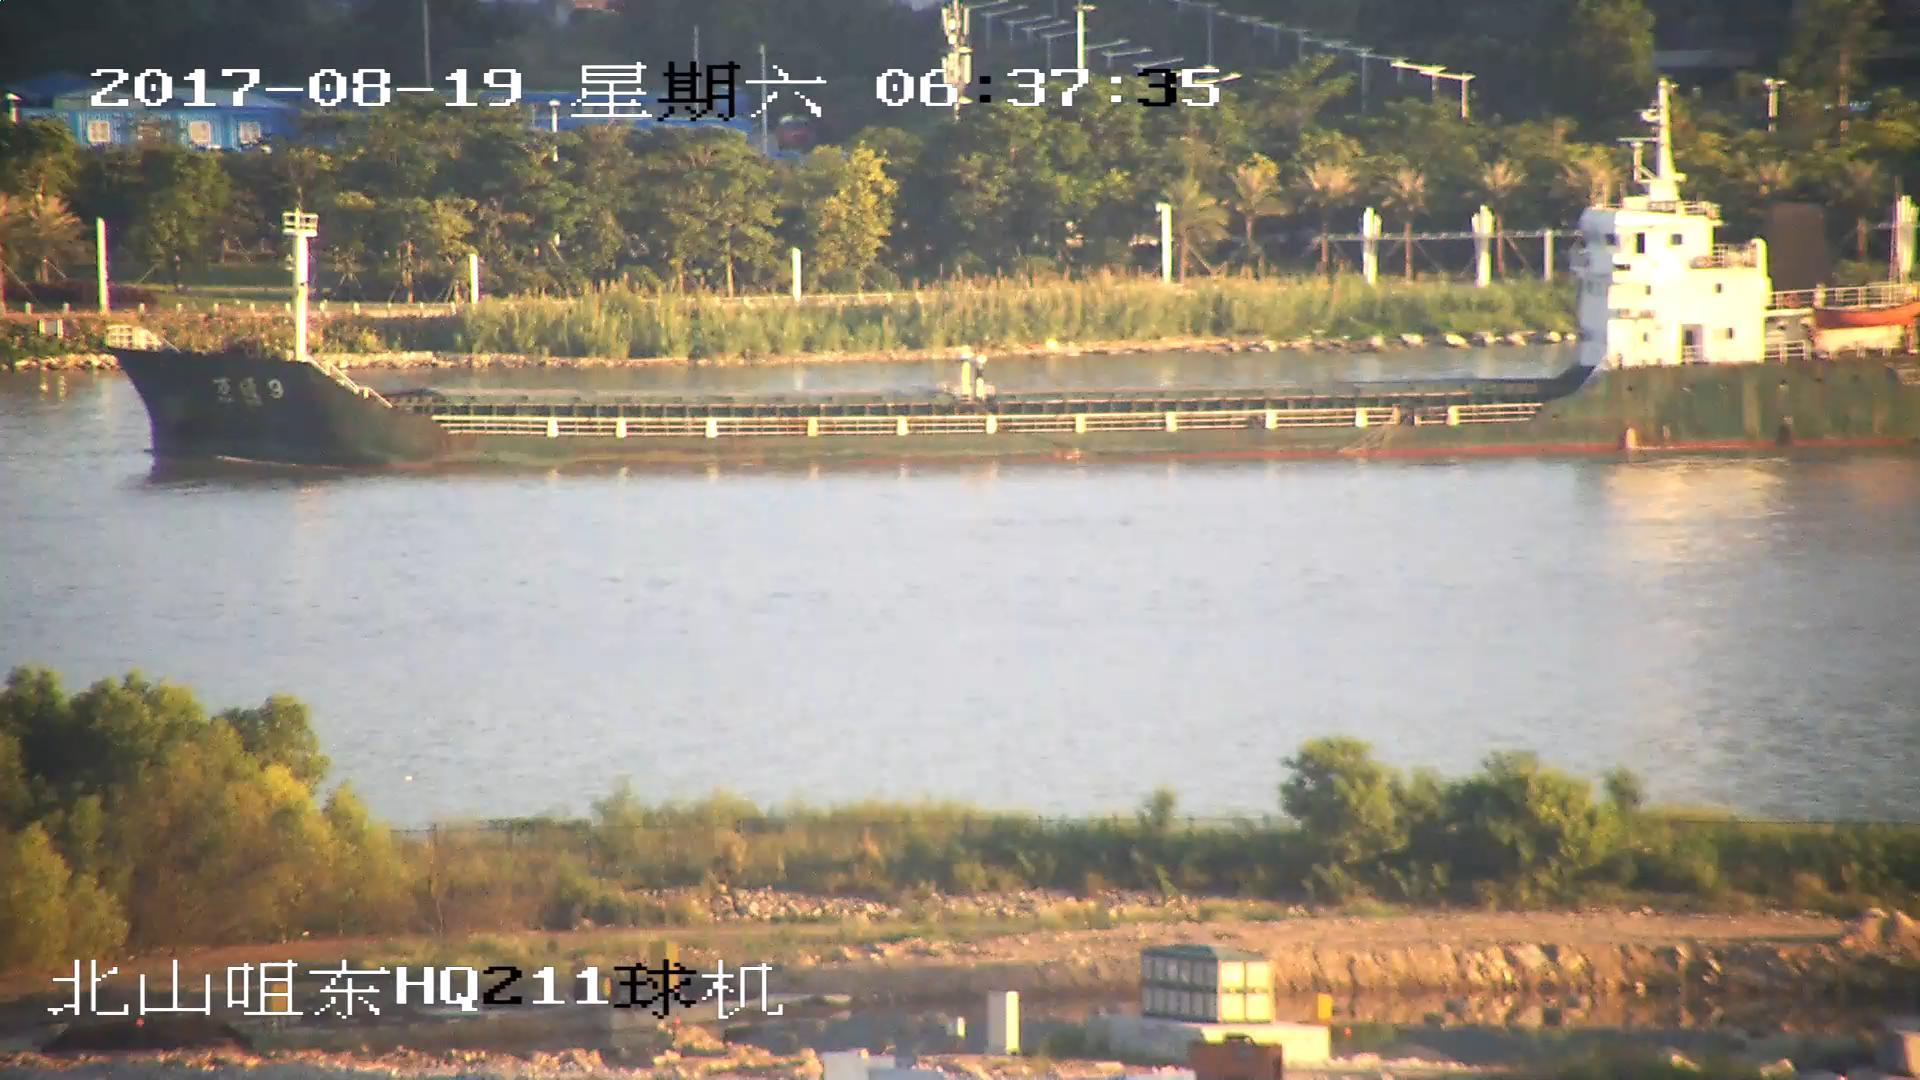Ship: (105, 117, 1920, 463)
